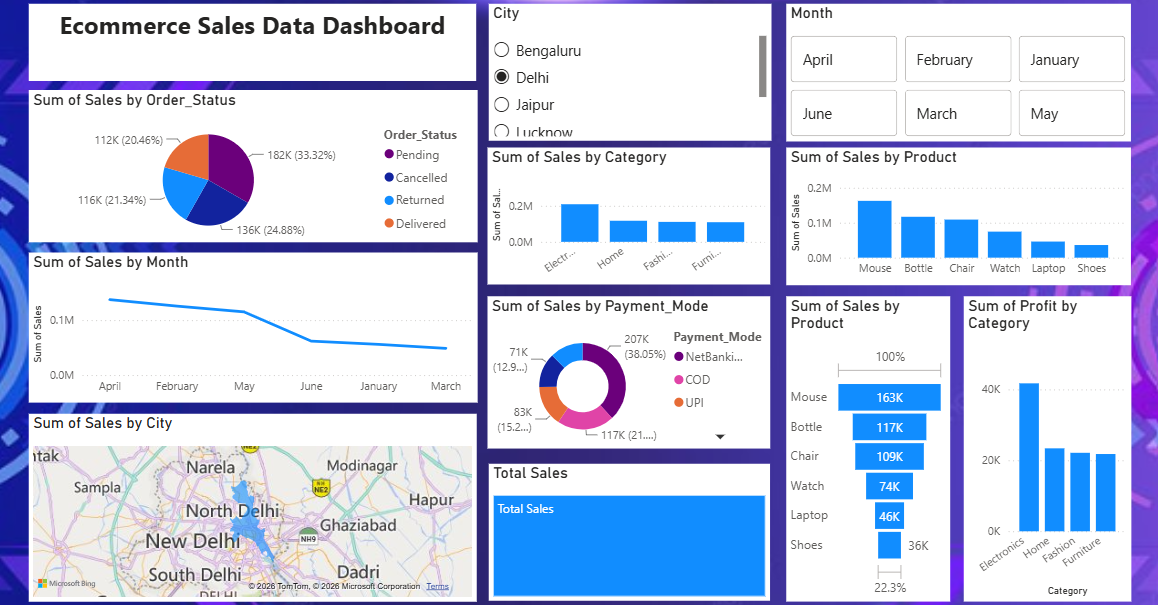

Layout of this report page (visuals, bound fields, positions):
{"tool":"powerbi","page":{"name":"Page 1","canvas":[1280,720],"ordinal":0},"visuals":[{"type":"lineChart","fields":{"Category":["Clean_Ecommers.Month"],"Y":["Sum(Clean_Ecommers.Sales)"]},"box":[37,304.6,492.6,164.7],"z":0},{"type":"columnChart","fields":{"Category":["Clean_Ecommers.Category"],"Y":["Sum(Clean_Ecommers.Sales)"]},"box":[540.7,189.4,310.1,150.6],"z":1000},{"type":"columnChart","fields":{"Category":["Clean_Ecommers.Product"],"Y":["Sum(Clean_Ecommers.Sales)"]},"box":[868.6,189.4,378.7,150.9],"z":2000},{"type":"treemap","fields":{"Values":["Dax Measure.Total Sales"]},"box":[542,536.5,309,150.6],"z":3000},{"type":"filledMap","fields":{"Category":["Clean_Ecommers.City"]},"box":[37,481.6,491.3,205.8],"z":4000},{"type":"donutChart","fields":{"Category":["Clean_Ecommers.Payment_Mode"],"Y":["Sum(Clean_Ecommers.Sales)"]},"box":[540.7,352.7,310.1,167.4],"z":5000},{"type":"pieChart","fields":{"Category":["Clean_Ecommers.Order_Status"],"Y":["Sum(Clean_Ecommers.Sales)"]},"box":[37,126.2,492.6,167.4],"z":6000},{"type":"funnel","fields":{"Category":["Clean_Ecommers.Product"],"Y":["Sum(Clean_Ecommers.Sales)"]},"box":[868.6,352.7,179.8,334.8],"z":7000},{"type":"columnChart","fields":{"Category":["Clean_Ecommers.Category"],"Y":["Sum(Clean_Ecommers.Profit)"]},"box":[1063.5,352.7,183.9,334.8],"z":8000},{"type":"advancedSlicerVisual","fields":{"Values":["Clean_Ecommers.Month"]},"box":[868.6,31.6,378.7,150.9],"z":9000},{"type":"listSlicer","fields":{"Values":["Clean_Ecommers.City"]},"box":[542,31.6,310.1,150.6],"z":10000},{"type":"textbox","box":[37,31.6,491.3,85.1],"z":11000}]}

Visuals, with their boxes in screenshot pixels (x1, y1, x2, y2):
lineChart - Clean_Ecommers.Month x Sum(Clean_Ecommers.Sales): 42,248,482,395
columnChart - Clean_Ecommers.Category x Sum(Clean_Ecommers.Sales): 492,145,768,279
columnChart - Clean_Ecommers.Product x Sum(Clean_Ecommers.Sales): 784,145,1122,280
treemap - Dax Measure.Total Sales: 493,455,768,589
filledMap - Clean_Ecommers.City: 42,406,480,589
donutChart - Clean_Ecommers.Payment_Mode x Sum(Clean_Ecommers.Sales): 492,291,768,440
pieChart - Clean_Ecommers.Order_Status x Sum(Clean_Ecommers.Sales): 42,88,482,238
funnel - Clean_Ecommers.Product x Sum(Clean_Ecommers.Sales): 784,291,945,589
columnChart - Clean_Ecommers.Category x Sum(Clean_Ecommers.Profit): 958,291,1122,589
advancedSlicerVisual - Clean_Ecommers.Month: 784,4,1122,139
listSlicer - Clean_Ecommers.City: 493,4,769,138
textbox: 42,4,480,80
